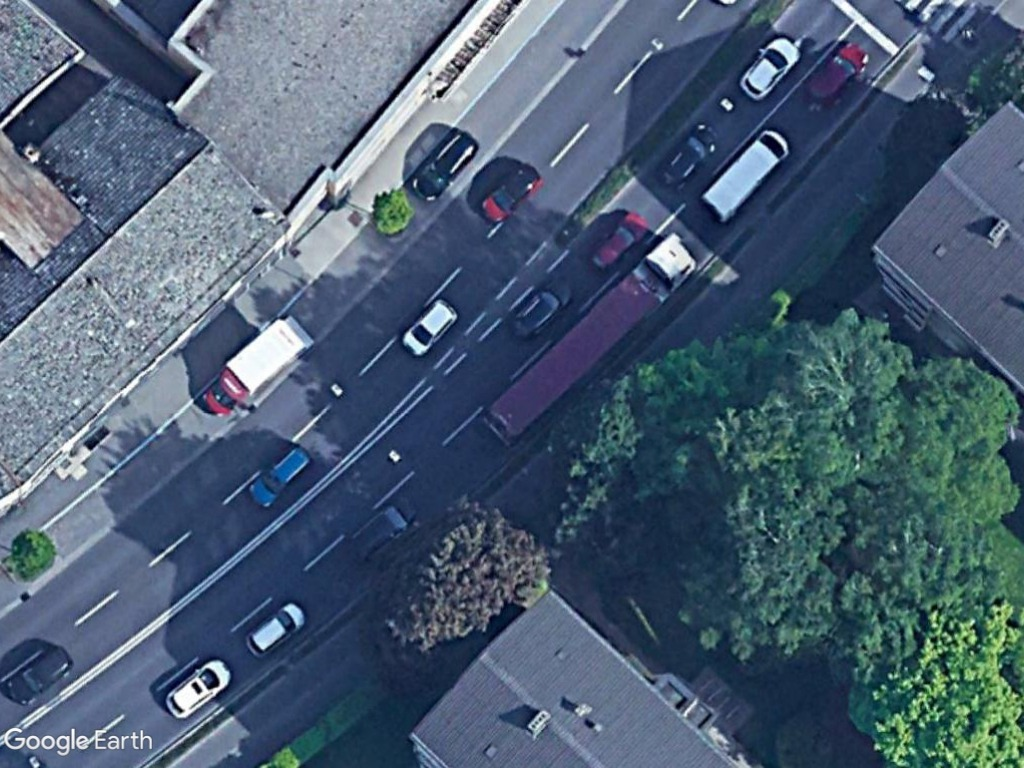car: (344, 491, 423, 568), (407, 127, 480, 204), (797, 42, 872, 116), (0, 641, 81, 709), (242, 439, 316, 512), (160, 650, 236, 721), (476, 159, 549, 225), (509, 275, 578, 343), (584, 211, 651, 278), (731, 35, 798, 101), (242, 595, 307, 658), (395, 296, 457, 361), (656, 121, 717, 187)
longvehicle: (476, 238, 696, 445)
truck: (197, 315, 310, 420)
van: (696, 128, 791, 224)
